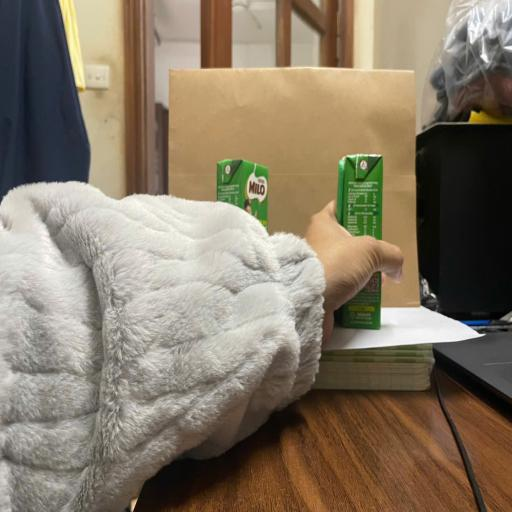milo: (338, 154, 382, 328), (216, 157, 270, 201)
